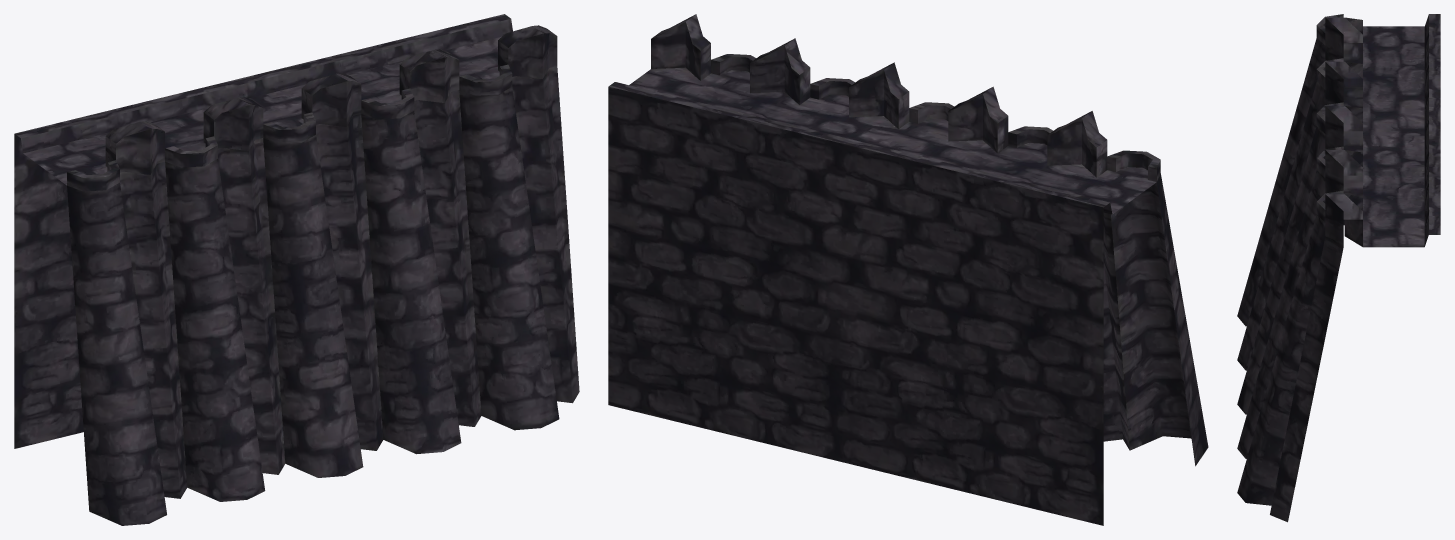
Rendered from wallmid.glb.
3 renders of one model, left to right at view 1: azimuth 30°, elevation 25°; view 2: azimuth 150°, elevation 25°; view 3: azimuth 270°, elevation 25°, orthographic. The views are drawn at different scales.
Visible parts, largest first — view 1: SM_WallMid; view 2: SM_WallMid; view 3: SM_WallMid.
Part boxes in pixels (x1,y1,x2,y2): SM_WallMid: (14,14,579,525); SM_WallMid: (608,14,1208,525); SM_WallMid: (1237,14,1440,522).
Size of the model in its own units: 4.06 by 2.71 by 1.56.
1 material, 1 textured.
